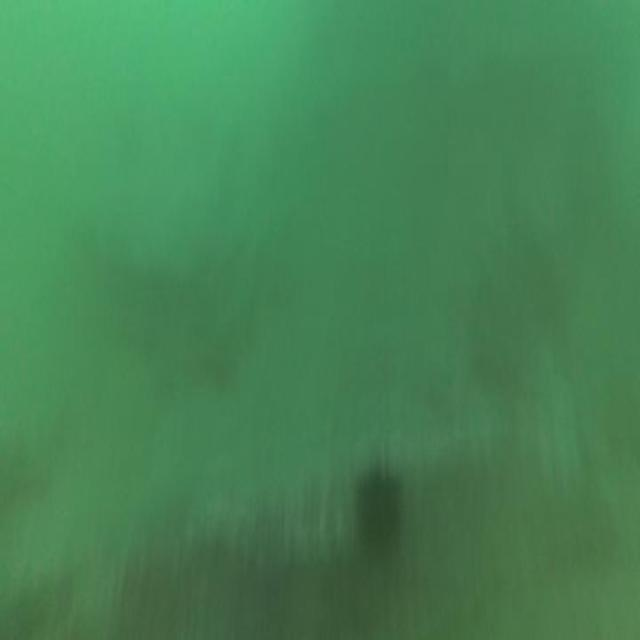echinus: (349, 458, 407, 569)
